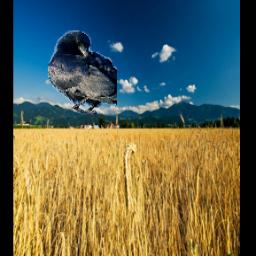Crow: (48, 30, 117, 116)
